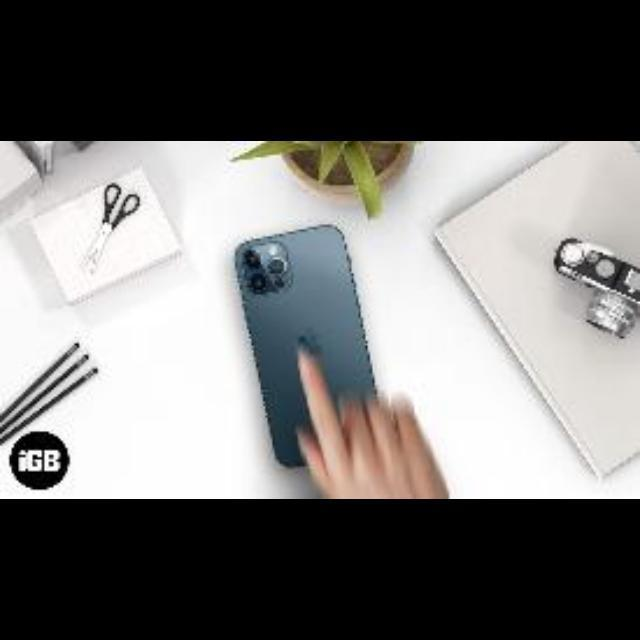PhoneUse: (232, 225, 388, 471)
